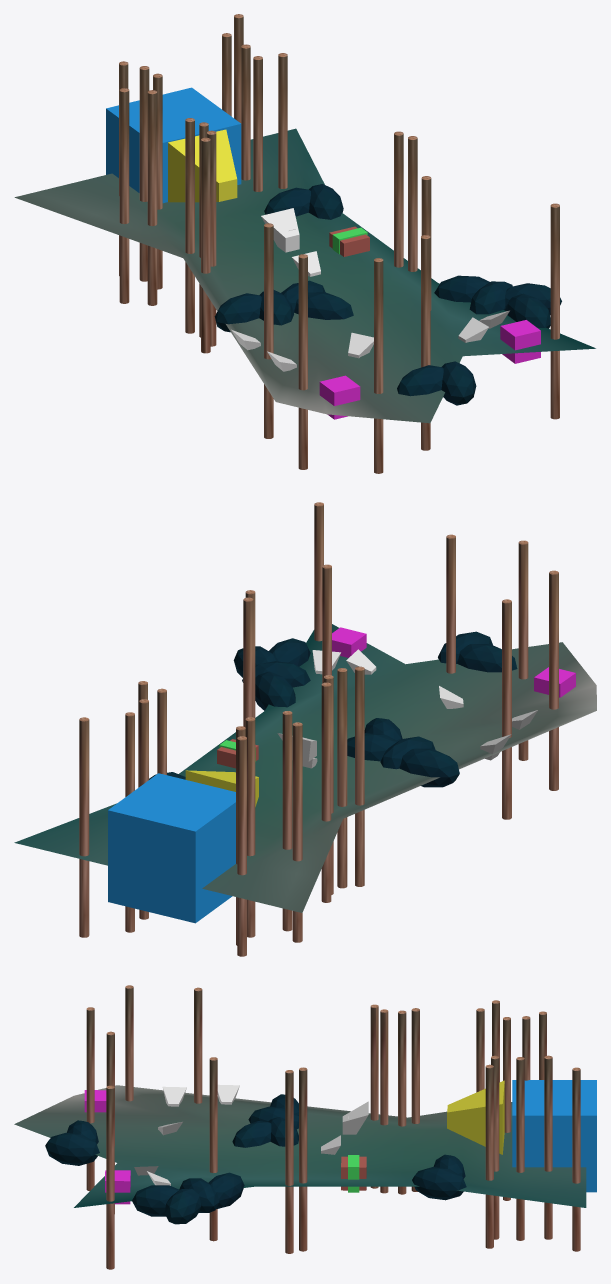
File: demo-swamp.gltf
The picture shows the model from 3 angles, top to bottom: view 1: azimuth 30°, elevation 25°; view 2: azimuth 150°, elevation 25°; view 3: azimuth 270°, elevation 25°; orthographic projection. The views are drawn at different scales.
Visible parts, largest first — view 1: Ground, Cube.027, Cube.028, Cylinder.010, Cylinder.002, Cylinder.003, Cylinder.019, Cylinder.004, Cylinder.022, Cylinder.005, Cylinder.007, Cylinder.013 (+26 smaller); view 2: Ground, Cube.027, Cylinder.017, Cylinder.021, Cylinder.022, Cylinder.007, Cylinder.019, Cylinder.004, Cylinder.012, Cylinder.010, Cylinder.002, Cylinder.005 (+20 smaller); view 3: Ground, Cube.027, Cube.028, Cylinder.009, Cylinder.003, Cylinder.001, Cylinder.018, Cylinder.017, Cylinder.014, Icosphere.002, Cylinder.015, Icosphere (+29 smaller).
Part boxes in pixels (left/top/right/bottom): Ground: left=14, top=128, right=595, bottom=423; Cube.027: left=106, top=87, right=241, bottom=203; Cube.028: left=168, top=129, right=237, bottom=202; Cylinder.010: left=119, top=88, right=129, bottom=303; Cylinder.002: left=147, top=90, right=157, bottom=305; Cylinder.003: left=550, top=203, right=559, bottom=419; Cylinder.019: left=185, top=118, right=194, bottom=333; Cylinder.004: left=298, top=254, right=307, bottom=469; Cylinder.022: left=201, top=137, right=210, bottom=353; Cylinder.005: left=374, top=258, right=383, bottom=473; Cylinder.007: left=264, top=223, right=273, bottom=438; Cylinder.013: left=139, top=66, right=149, bottom=281; Ground: left=14, top=624, right=596, bottom=912; Cube.027: left=108, top=773, right=235, bottom=923; Cylinder.017: left=79, top=717, right=89, bottom=937; Cylinder.021: left=337, top=668, right=347, bottom=888; Cylinder.022: left=355, top=666, right=364, bottom=886; Cylinder.007: left=502, top=599, right=511, bottom=819; Cylinder.019: left=321, top=682, right=331, bottom=902; Cylinder.004: left=549, top=570, right=558, bottom=790; Cylinder.012: left=237, top=736, right=246, bottom=956; Cylinder.010: left=292, top=722, right=302, bottom=942; Cylinder.002: left=282, top=711, right=292, bottom=931; Cylinder.005: left=518, top=540, right=528, bottom=760; Ground: left=14, top=1085, right=586, bottom=1207; Cube.027: left=512, top=1080, right=596, bottom=1192; Cube.028: left=447, top=1080, right=504, bottom=1154; Cylinder.009: left=285, top=1070, right=293, bottom=1253; Cylinder.003: left=106, top=1085, right=114, bottom=1269; Cylinder.001: left=299, top=1067, right=307, bottom=1251; Cylinder.018: left=485, top=1064, right=493, bottom=1248; Cylinder.017: left=572, top=1067, right=580, bottom=1251; Cylinder.014: left=516, top=1057, right=524, bottom=1240; Icosphere.002: left=45, top=1132, right=99, bottom=1165; Cylinder.015: left=544, top=1055, right=552, bottom=1239; Icosphere: left=412, top=1167, right=466, bottom=1200.
Size of the model in its own units: 58.06 by 36.92 by 108.
Materials: 6 (1 with a texture image).
